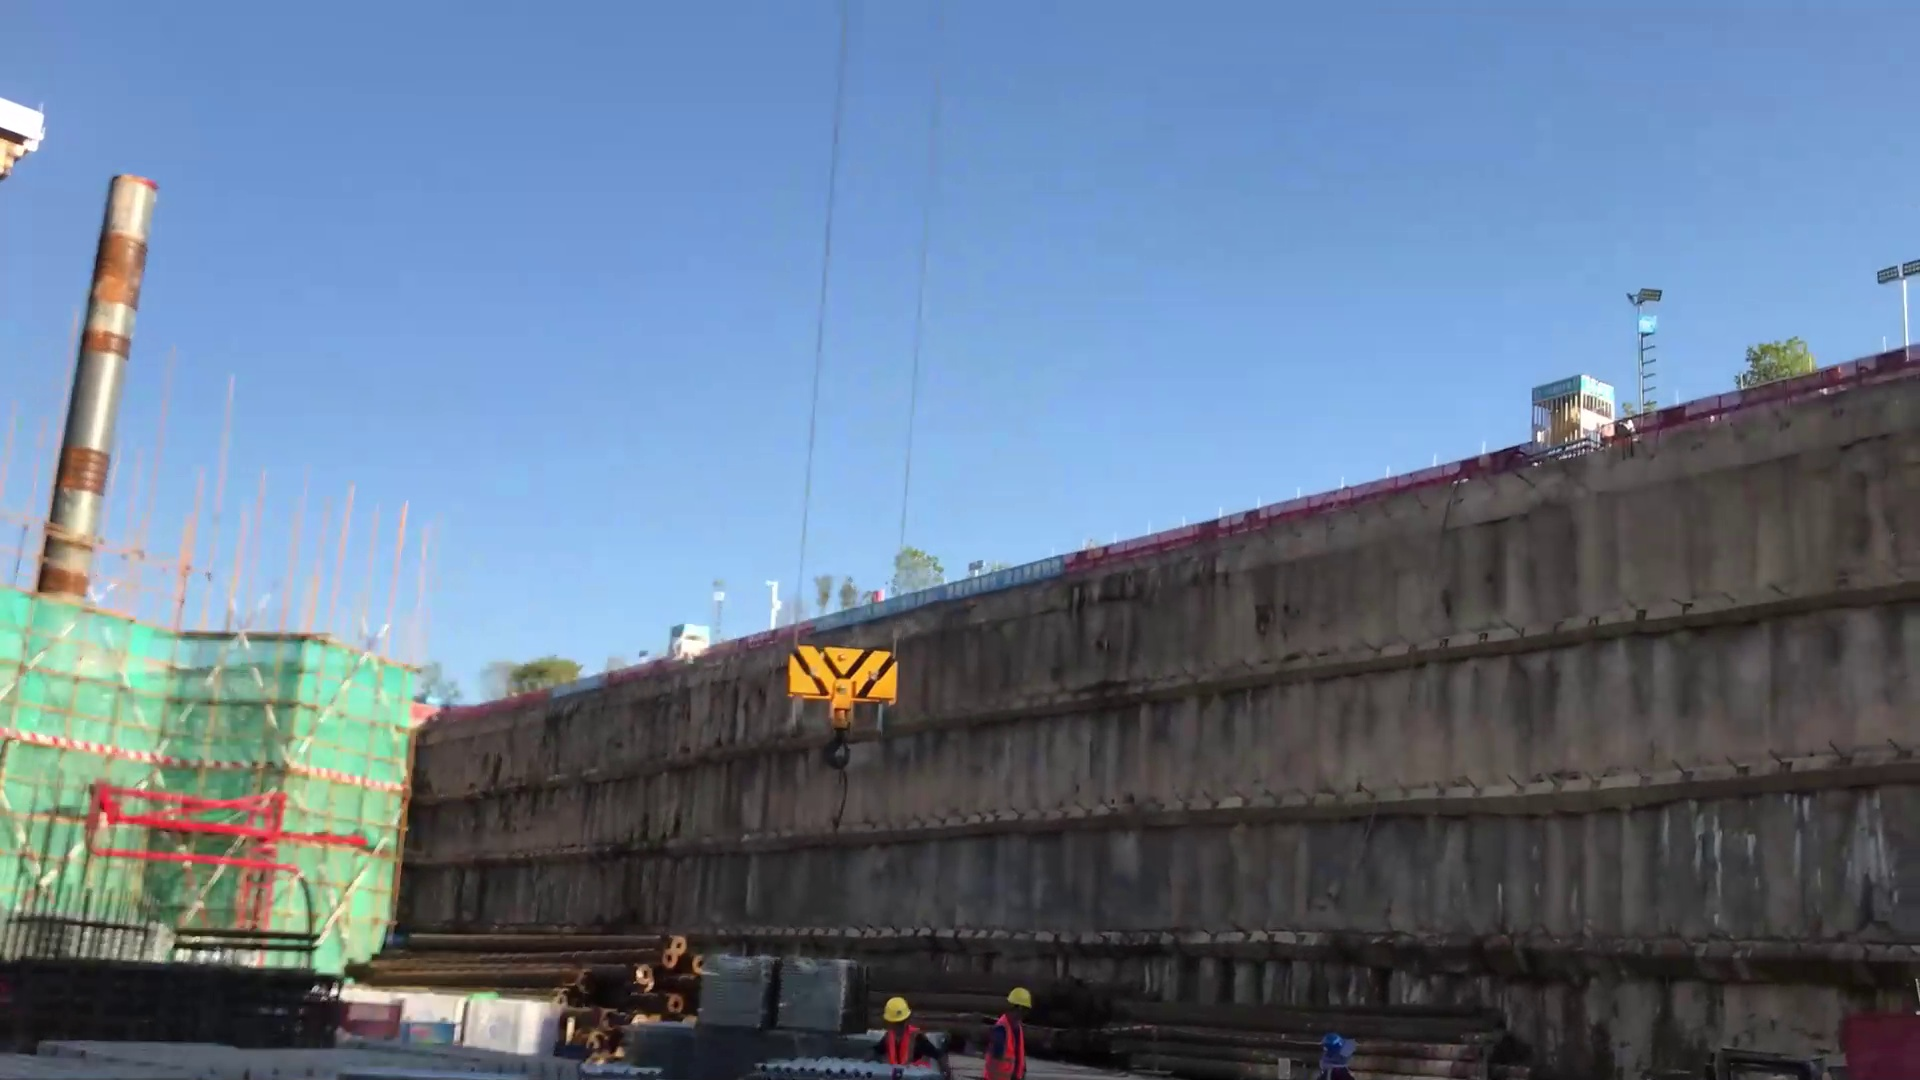helmet: (1004, 977, 1042, 1015), (883, 991, 927, 1023)
hook: (779, 638, 898, 764)
person: (871, 987, 951, 1080), (983, 987, 1034, 1080)
vest: (982, 1003, 1018, 1080), (879, 1023, 917, 1065)
